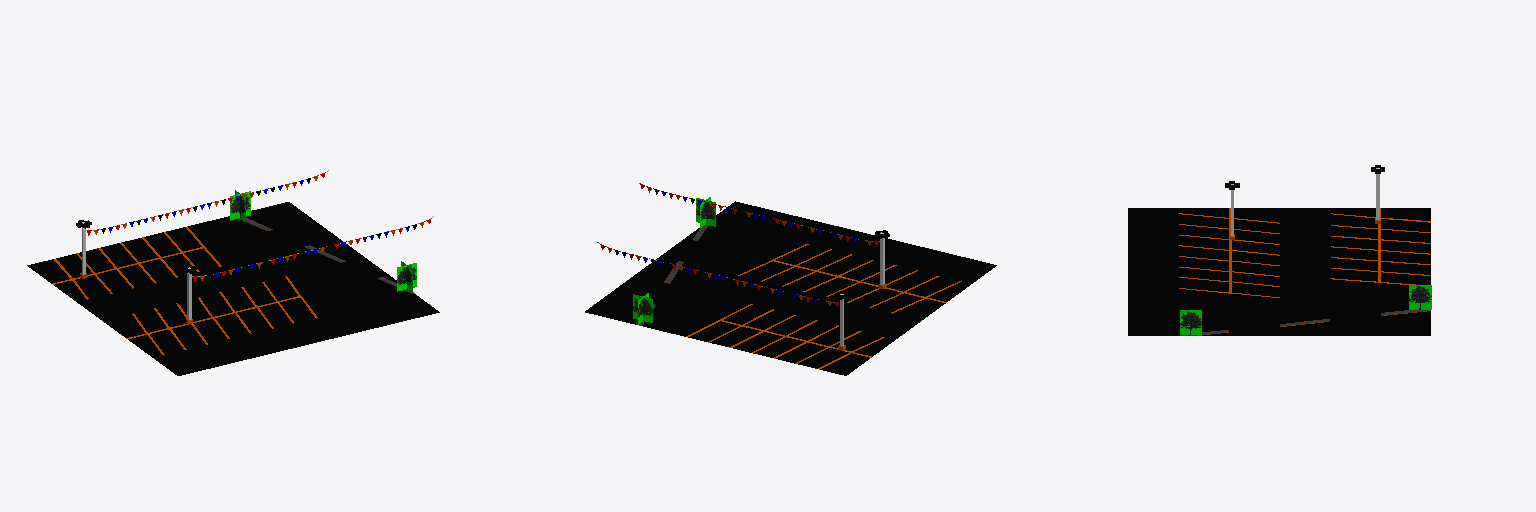
3 renders of one model, left to right at view 1: azimuth 30°, elevation 25°; view 2: azimuth 150°, elevation 25°; view 3: azimuth 270°, elevation 25°, orthographic.
Parts seen in each view (by area): view 1: 0E_sepg_ln_Grid.017; view 2: 0E_sepg_ln_Grid.017; view 3: 0E_sepg_ln_Grid.017.
Boxes of the visible parts, x1,y1,x2,y2 form: 0E_sepg_ln_Grid.017: [27, 170, 439, 375]; 0E_sepg_ln_Grid.017: [585, 183, 996, 375]; 0E_sepg_ln_Grid.017: [1128, 165, 1431, 335].
Bounding box in the file's own units: 18.76 × 3.19 × 16.04.
Materials: 10 (1 with a texture image).